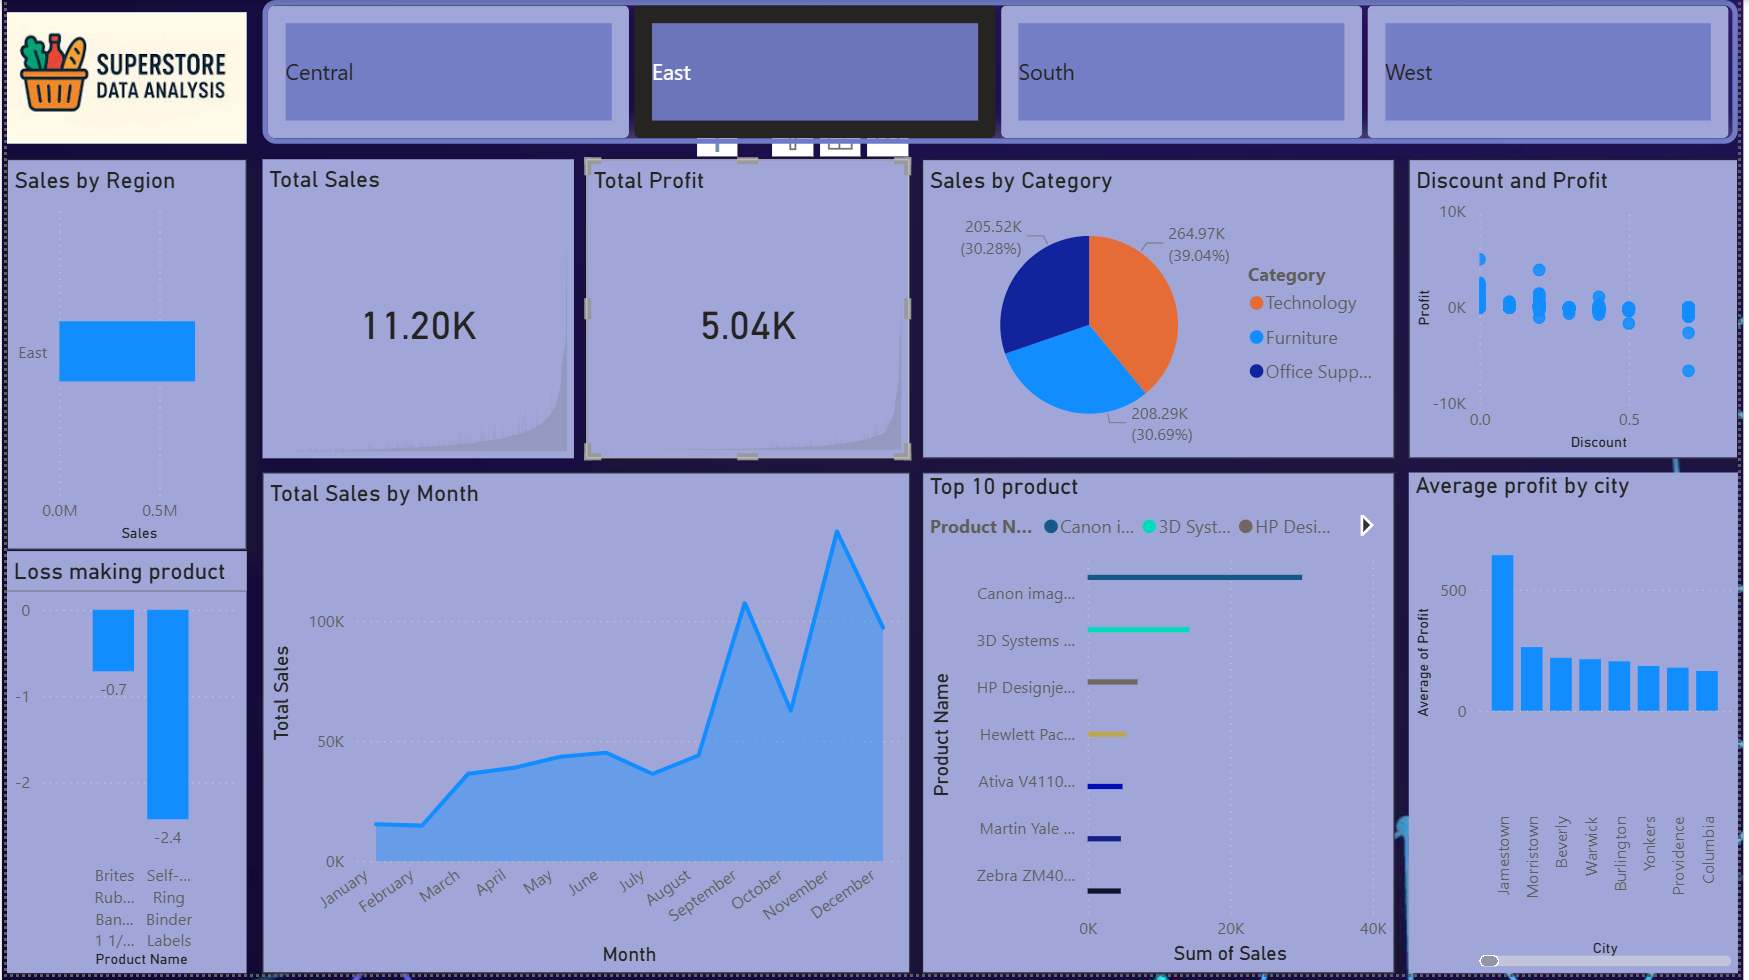

Layout of this report page (visuals, bound fields, positions):
{"tool":"powerbi","page":{"name":"Page 1","canvas":[1280,720],"ordinal":0},"visuals":[{"type":"shape","box":[0,117.8,177.3,288.6],"z":0},{"type":"shape","box":[0,9.1,177.3,97],"z":1000},{"type":"image","box":[0,9.1,177.3,97],"z":2000},{"type":"barChart","fields":{"Category":["Sample - Superstore.Region"],"Y":["Sum(Sample - Superstore.Sales)"]},"box":[0,117.8,177.3,288.6],"z":3000},{"type":"kpi","title":"Total Sales ","fields":{"TrendLine":["Sample - Superstore.Sales"],"Indicator":["Sample - Superstore.Total Sales"]},"box":[188.9,117.8,230.3,221.3],"z":4000},{"type":"kpi","title":"Total Profit","fields":{"Indicator":["Sum(Sample - Superstore.Profit)"],"TrendLine":["Sample - Superstore.Profit"]},"box":[428.3,117.8,239.4,221.3],"z":5000},{"type":"areaChart","fields":{"Category":["Sample - Superstore.Order Date.Variation.Date Hierarchy.Month"],"Y":["Sample - Superstore.Total Sales"]},"box":[188.9,349.4,478.8,370.1],"z":6000},{"type":"pieChart","fields":{"Y":["Sum(Sample - Superstore.Sales)"],"Category":["Sample - Superstore.Category"]},"box":[676.8,117.8,349.4,221.3],"z":7000},{"type":"clusteredBarChart","title":"Top 10 product ","fields":{"Series":["Sample - Superstore.Product Name"],"Category":["Sample - Superstore.Product Name"],"Y":["Sum(Sample - Superstore.Sales)"]},"box":[676.8,349.4,349.4,370.1],"z":8000},{"type":"scatterChart","fields":{"X":["Sample - Superstore.Discount"],"Y":["Sample - Superstore.Profit"]},"box":[1036.5,117.8,243.3,221.3],"z":9000},{"type":"columnChart","title":"Average profit by city","fields":{"Category":["Sample - Superstore.City"],"Y":["Avg(Sample - Superstore.Profit)"]},"box":[1036.5,349.4,243.3,370.1],"z":10000},{"type":"advancedSlicerVisual","fields":{"Values":["Sample - Superstore.Region"]},"box":[188.9,0,1090.8,106.1],"z":11000},{"type":"columnChart","title":"Loss making product","fields":{"Category":["Sample - Superstore.Product Name"],"Y":["Sum(Sample - Superstore.Profit)"]},"box":[0,407,177,312],"z":11001}]}

Visuals, with their boxes in screenshot pixels (x1, y1, x2, y2), scaled from the page's 1280x720 canvas onto the 1749x980 screenshot:
shape: box(0, 160, 242, 553)
shape: box(0, 12, 242, 144)
image: box(0, 12, 242, 144)
barChart - Sample - Superstore.Region x Sum(Sample - Superstore.Sales): box(0, 160, 242, 553)
"Total Sales " kpi: box(258, 160, 573, 462)
"Total Profit" kpi: box(585, 160, 912, 462)
areaChart - Sample - Superstore.Order Date.Variation.Date Hierarchy.Month x Sample - Superstore.Total Sales: box(258, 476, 912, 979)
pieChart - Sum(Sample - Superstore.Sales) x Sample - Superstore.Category: box(925, 160, 1402, 462)
"Top 10 product " clusteredBarChart: box(925, 476, 1402, 979)
scatterChart - Sample - Superstore.Discount x Sample - Superstore.Profit: box(1416, 160, 1748, 462)
"Average profit by city" columnChart: box(1416, 476, 1748, 979)
advancedSlicerVisual - Sample - Superstore.Region: box(258, 0, 1748, 144)
"Loss making product" columnChart: box(0, 554, 242, 979)
